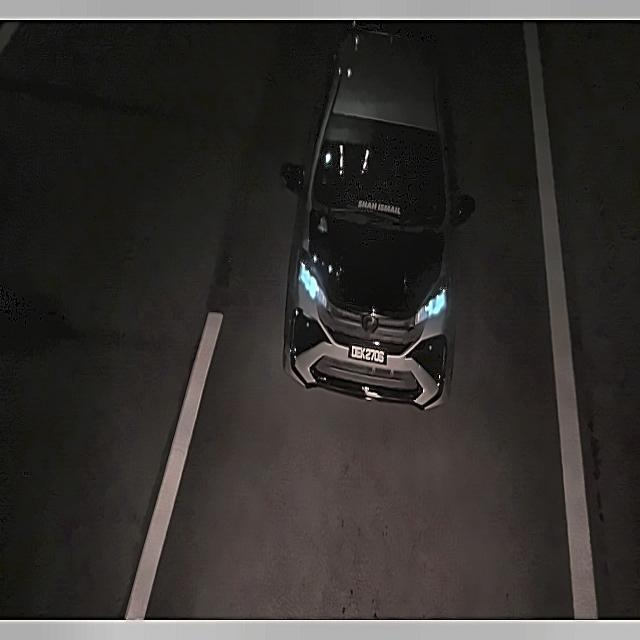car: (346, 338, 389, 371)
